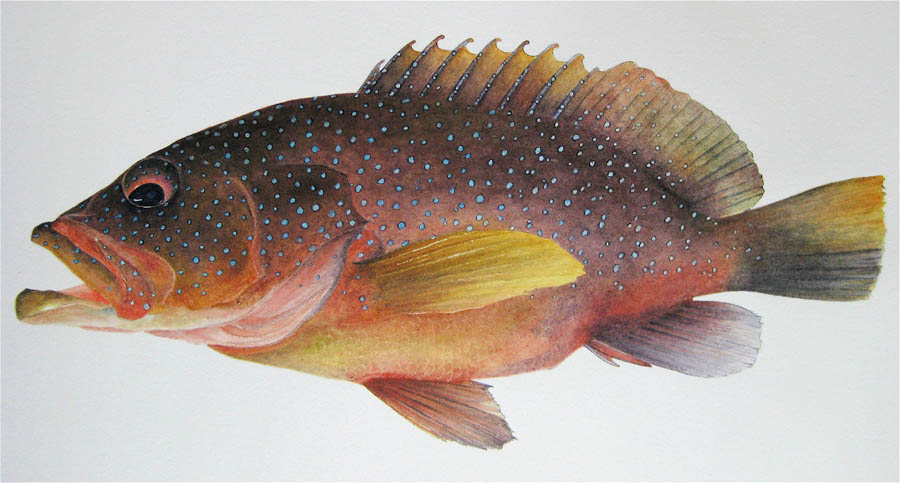Cephalopholis_fulvaw: (13, 10, 899, 445)
